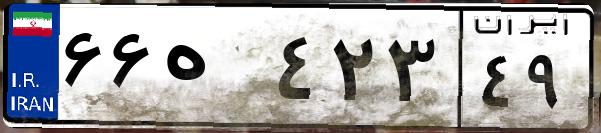2: (330, 28, 385, 110)
3: (385, 28, 445, 110)
4: (270, 28, 330, 110), (475, 38, 525, 113)
6: (57, 26, 110, 100), (110, 28, 158, 98)
9: (525, 38, 570, 115)
ه: (158, 20, 270, 120)
